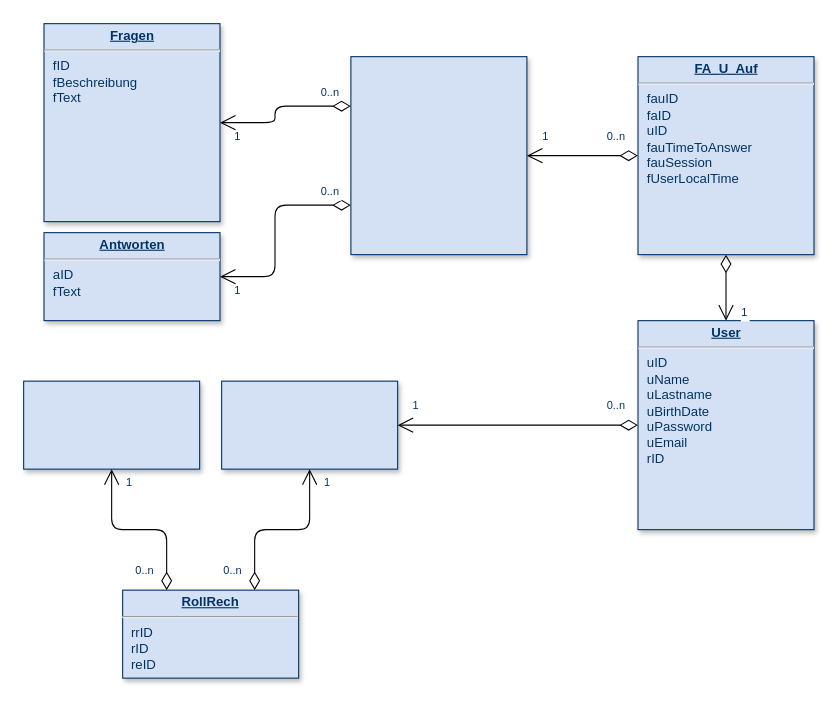
The diagram is 840 pixels wide and 705 high, and some of its shapes have lost their labels. The shapes that lost their labels are listed below. From the top down, each one's centre as x and y in pixels, then its label:
the point at 439,156: FrageAntwortMoeg faID fID aID
the point at 112,426: Rechte reID reBezeichnung
the point at 310,426: Rollen rID rBezeichnung
